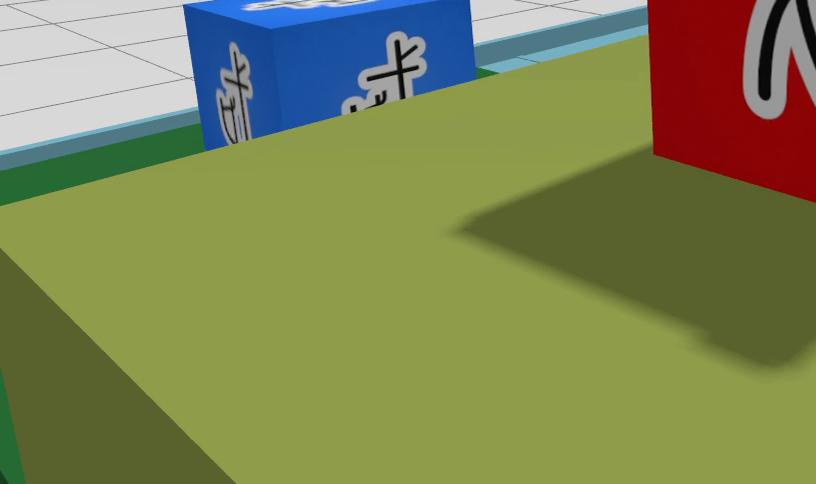KFS_FAKE: (647, 0, 816, 202), (741, 0, 816, 119)
KFS_REAL: (184, 0, 475, 149), (342, 31, 427, 113), (215, 43, 253, 143), (242, 0, 376, 10)
